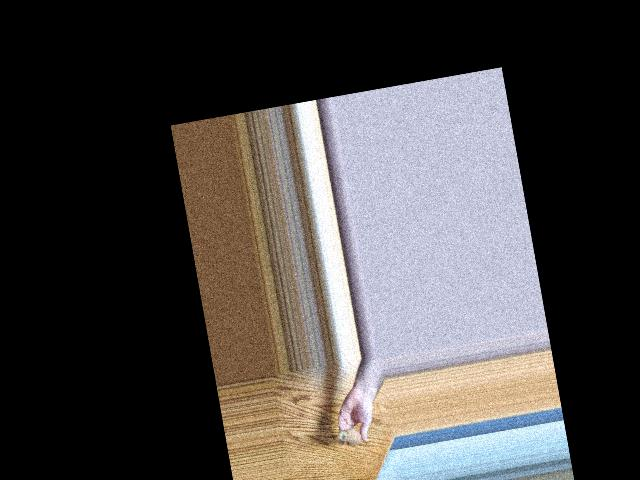sweet_potato: (338, 426, 366, 455)
